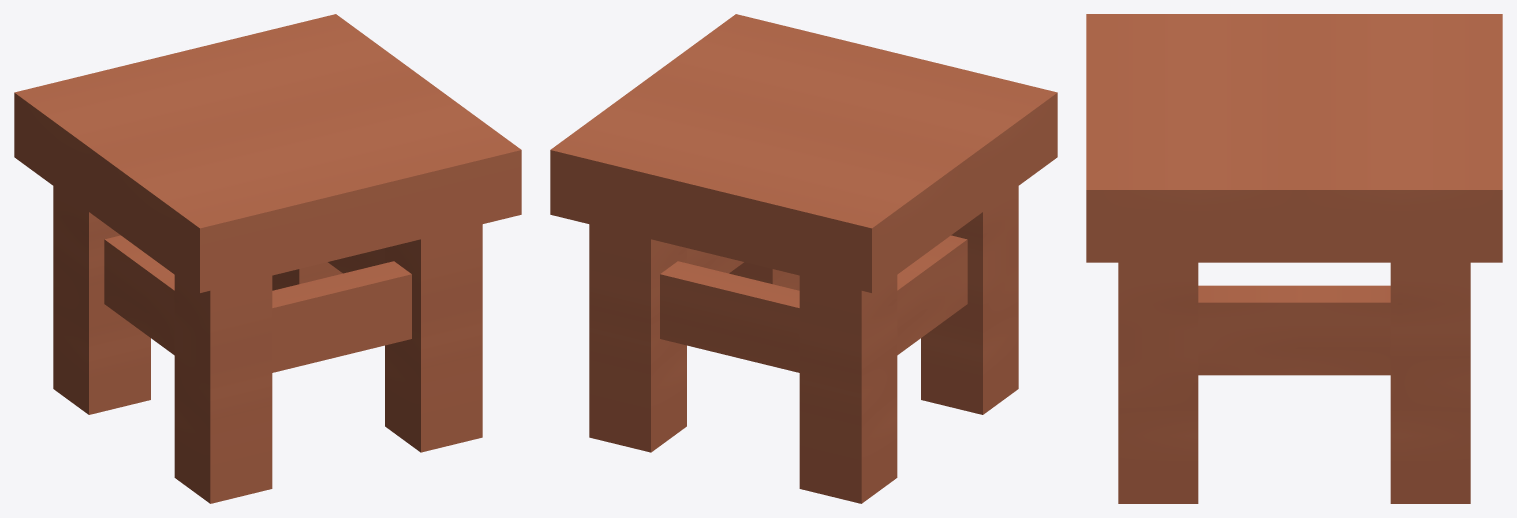
File: stallStool.fbx
3 views of the same model, side by side, from view 1: azimuth 30°, elevation 25°; view 2: azimuth 150°, elevation 25°; view 3: azimuth 270°, elevation 25° (orthographic). The views are drawn at different scales.
Parts seen in each view (by area): view 1: stallStool; view 2: stallStool; view 3: stallStool.
Boxes of the visible parts, bbox=[...] form: stallStool: bbox=[14, 14, 521, 503]; stallStool: bbox=[550, 14, 1057, 503]; stallStool: bbox=[1086, 14, 1502, 503].
Bounding box in the file's own units: 0.26 × 0.26 × 0.2255.
